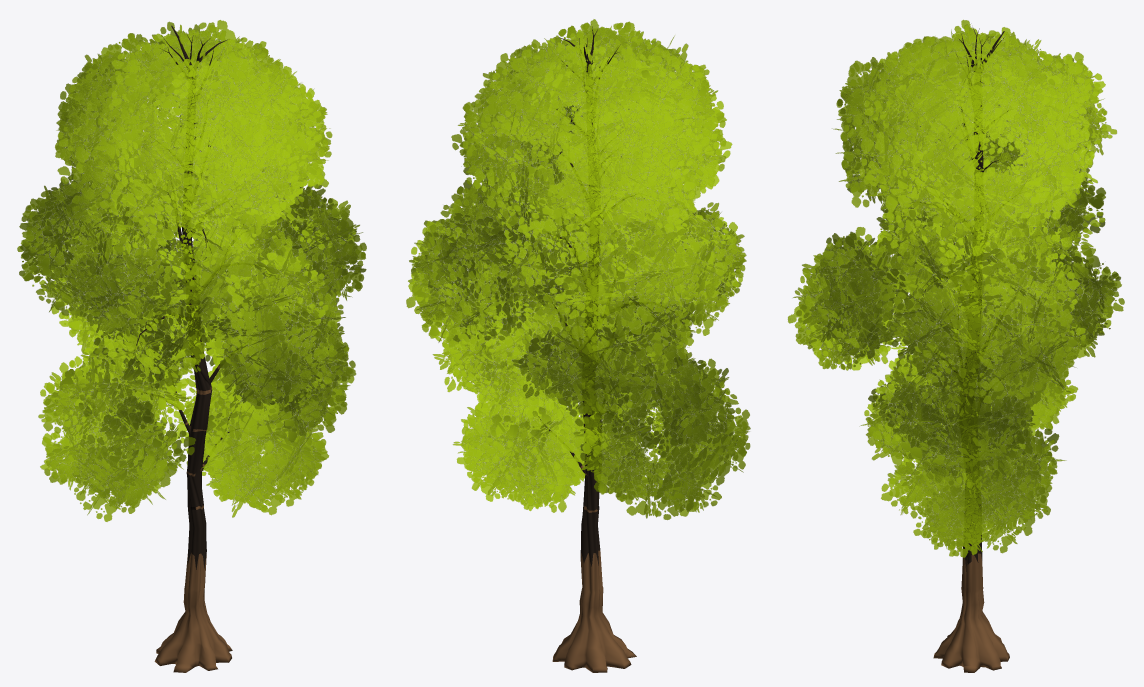
The model's file is Tree2.glb.
The picture shows the model from 3 angles, left to right: view 1: azimuth 30°, elevation 25°; view 2: azimuth 150°, elevation 25°; view 3: azimuth 270°, elevation 25°; orthographic projection.
Parts seen in each view (by area): view 1: Broadleaf_Tree 1_Leaves_LOD0, Tree2; view 2: Broadleaf_Tree 1_Leaves_LOD0, Tree2; view 3: Broadleaf_Tree 1_Leaves_LOD0, Tree2.
Boxes of the visible parts, box(x1,y1,x2,y2) form: Broadleaf_Tree 1_Leaves_LOD0: box(17, 20, 366, 521); Tree2: box(133, 25, 255, 672); Broadleaf_Tree 1_Leaves_LOD0: box(406, 19, 750, 519); Tree2: box(538, 26, 683, 672); Broadleaf_Tree 1_Leaves_LOD0: box(787, 19, 1124, 557); Tree2: box(916, 27, 1012, 672).
Bounding box in the file's own units: 5.56 × 10.23 × 5.16.
2 materials, 2 textured.
